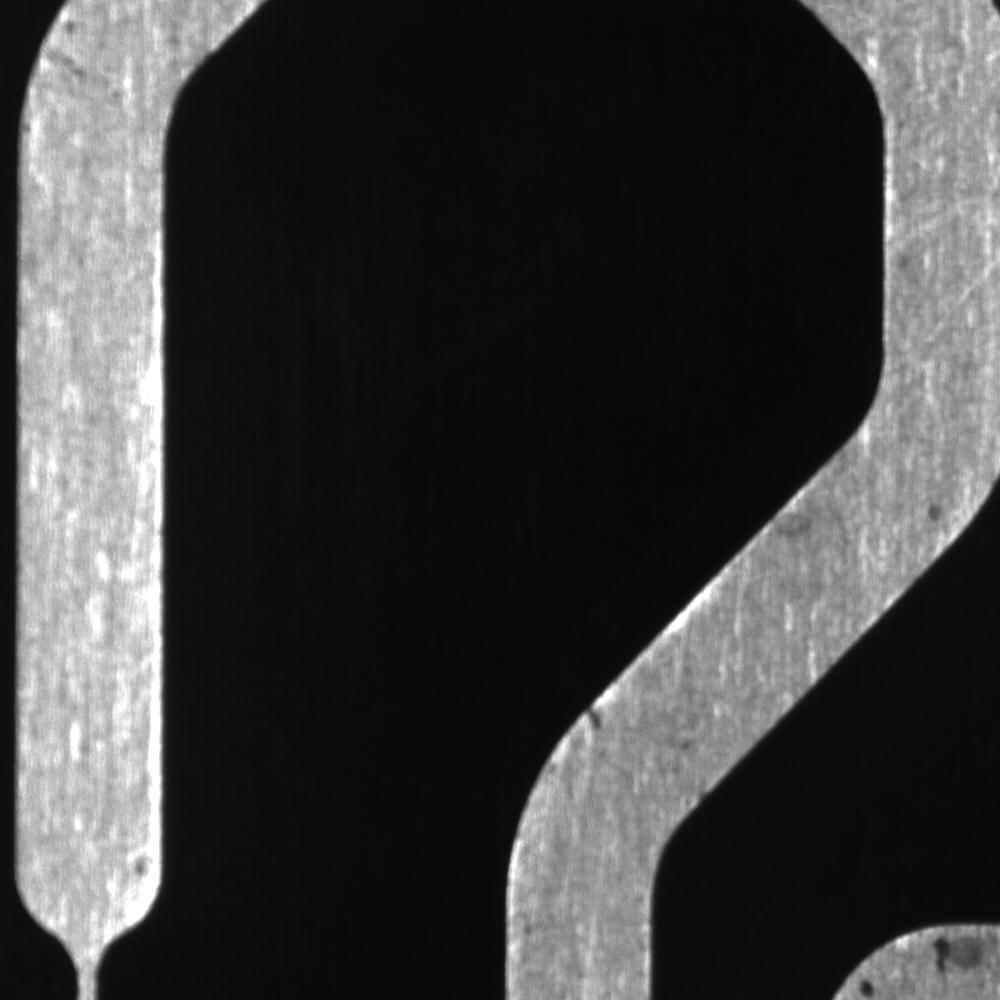Etching: (559, 690, 669, 758), (912, 935, 1000, 996)
Pinhole: (911, 491, 958, 528)
